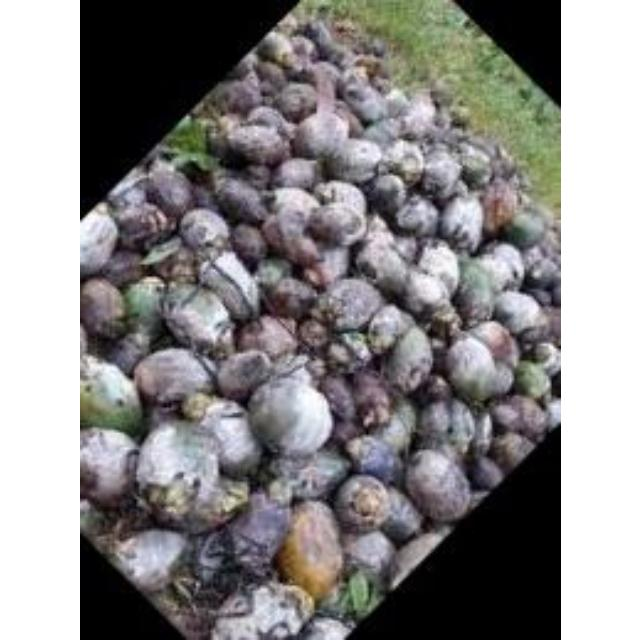damaged: (133, 419, 229, 523), (275, 499, 343, 599), (212, 582, 312, 640), (160, 283, 238, 353), (402, 448, 472, 522), (109, 527, 187, 593), (80, 358, 144, 438), (320, 552, 390, 622), (132, 347, 212, 408), (198, 400, 262, 476), (443, 335, 511, 403), (79, 429, 139, 505), (200, 250, 258, 318), (270, 446, 344, 499), (331, 472, 392, 532), (264, 186, 320, 250), (384, 326, 434, 392), (322, 277, 382, 331), (120, 278, 168, 344), (354, 232, 408, 290), (214, 348, 272, 398), (323, 136, 383, 184), (80, 276, 126, 338), (346, 434, 402, 484), (454, 258, 498, 320), (340, 528, 394, 578), (437, 194, 485, 250), (296, 114, 352, 162), (227, 122, 287, 166), (237, 315, 296, 359), (214, 177, 268, 225), (145, 167, 195, 217), (306, 202, 364, 245), (178, 206, 230, 252), (492, 393, 546, 437), (114, 202, 168, 246), (80, 210, 118, 272), (371, 402, 412, 456), (399, 268, 447, 314), (415, 242, 459, 292), (266, 276, 318, 318), (316, 180, 368, 222), (380, 140, 428, 184), (468, 321, 516, 364), (366, 305, 410, 351), (340, 80, 386, 124), (491, 290, 539, 332), (480, 179, 516, 235), (352, 378, 392, 428), (416, 399, 456, 448), (418, 150, 459, 196), (395, 195, 439, 237), (381, 494, 421, 540), (102, 334, 146, 374), (454, 143, 494, 187), (276, 80, 320, 120), (318, 374, 354, 421), (485, 242, 525, 284), (446, 400, 478, 452), (366, 173, 406, 214), (511, 360, 551, 400), (491, 432, 533, 470), (504, 208, 546, 246), (229, 222, 267, 264), (399, 96, 437, 136), (222, 76, 262, 114), (101, 252, 143, 288), (274, 156, 318, 190), (156, 250, 200, 284), (253, 31, 294, 67), (466, 454, 504, 490), (334, 330, 372, 366), (80, 502, 112, 544), (523, 254, 559, 290), (484, 146, 518, 184), (245, 105, 288, 135), (360, 118, 400, 150), (516, 315, 552, 349), (308, 60, 344, 94), (469, 408, 493, 456), (206, 120, 234, 160), (265, 473, 297, 507), (255, 258, 289, 288), (530, 342, 560, 376), (287, 35, 317, 67), (253, 60, 285, 88), (528, 203, 556, 235)
